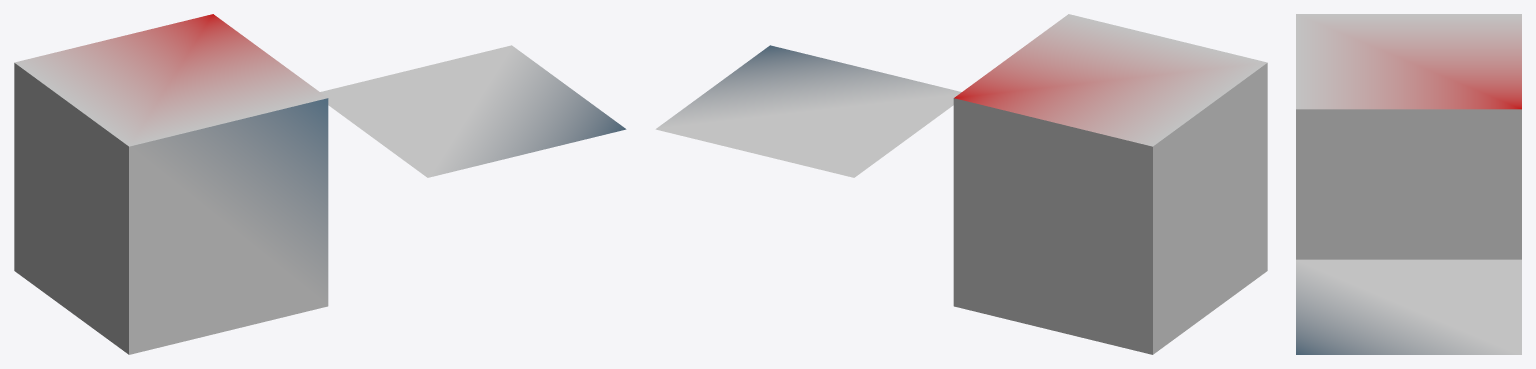
The model's file is vertex_colors.out_placeholder.glb.
3 views of the same model, side by side, from view 1: azimuth 30°, elevation 25°; view 2: azimuth 150°, elevation 25°; view 3: azimuth 270°, elevation 25° (orthographic).
Visible parts, largest first — view 1: Cube, Plane; view 2: Cube, Plane; view 3: Cube, Plane.
Part boxes in pixels (x1,y1,x2,y2): Cube: (14, 14, 328, 354); Plane: (320, 45, 626, 177); Cube: (953, 14, 1267, 354); Plane: (655, 45, 961, 177); Cube: (1296, 14, 1521, 259); Plane: (1296, 259, 1521, 354).
Bounding box in the file's own units: 5 × 2 × 2.
